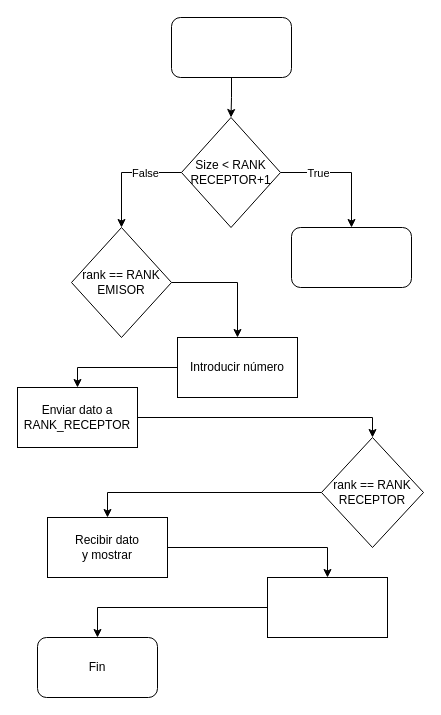
The diagram is 441 pixels wide and 715 high, and some of its shapes have lost their labels. Each missing label, with the centre of its shape:
Abort: the point at 351,257
Finalizar MPI: the point at 327,607
Inicio: the point at 231,47
